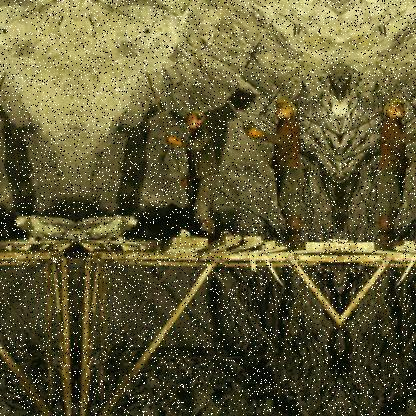Helmet: (271, 95, 301, 123), (385, 99, 407, 124), (190, 107, 210, 130)
